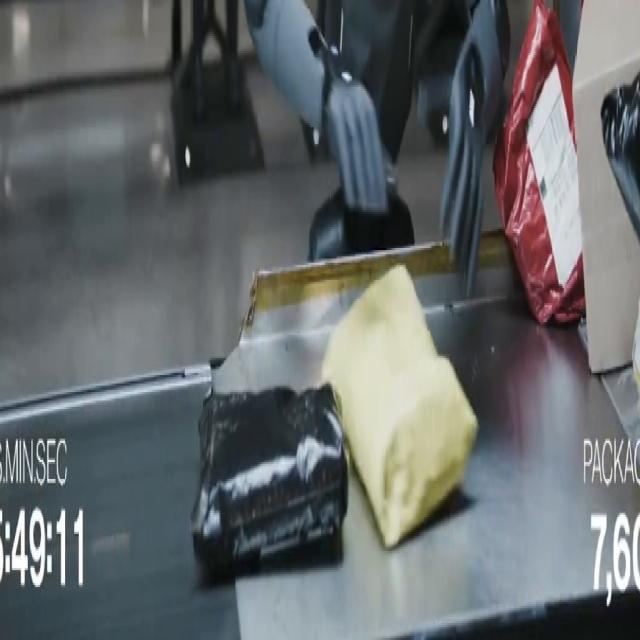package: (322, 265, 477, 548), (191, 386, 348, 576), (494, 0, 585, 324), (573, 0, 639, 372), (601, 75, 639, 243), (633, 304, 639, 394)
